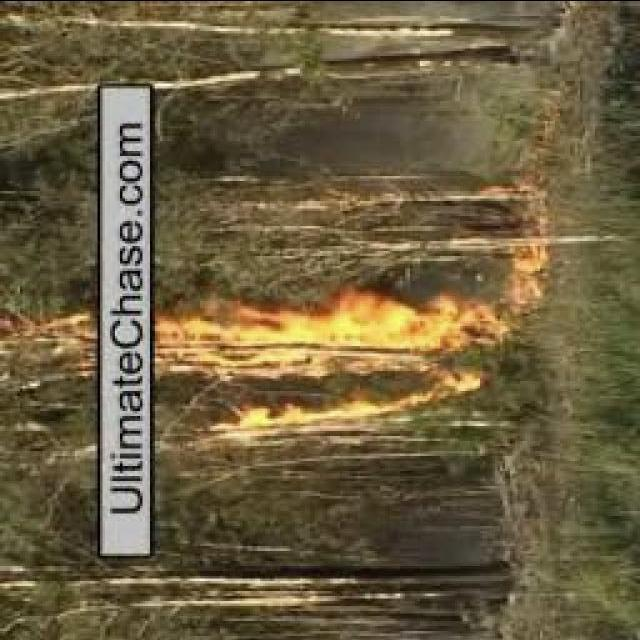Fire: (150, 279, 493, 456), (10, 308, 106, 364), (508, 245, 553, 302)
